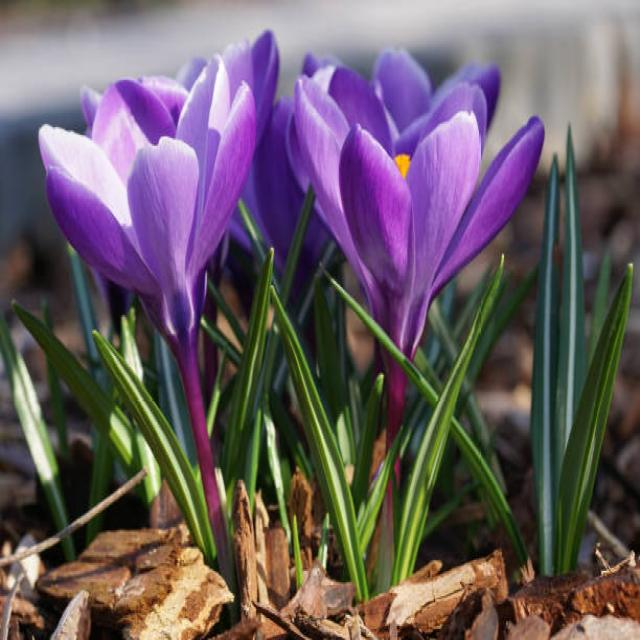saffron open: (39, 56, 256, 572)
